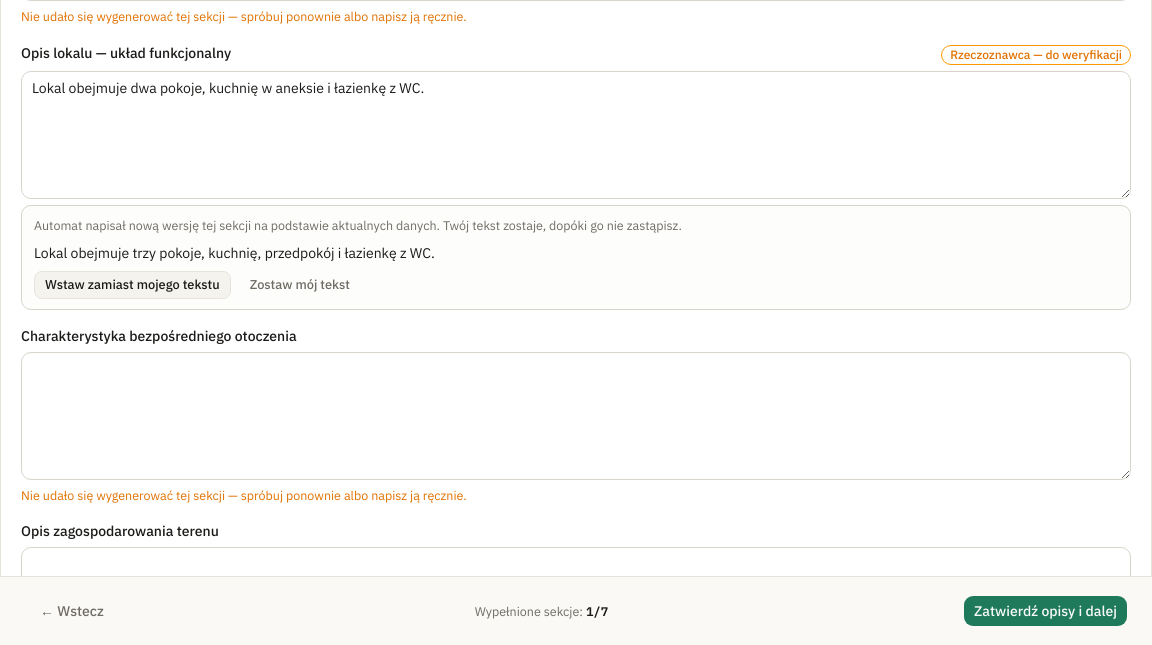
a proposal the merge refused to overwrite is offered, not binned › 'Zostaw mój tekst' retires the offer and changes nothing else
The image size is (1152, 645).
(page scrolled)
Click the button "Zostaw mój tekst". click: (300, 285)
box: [239,271,361,299]
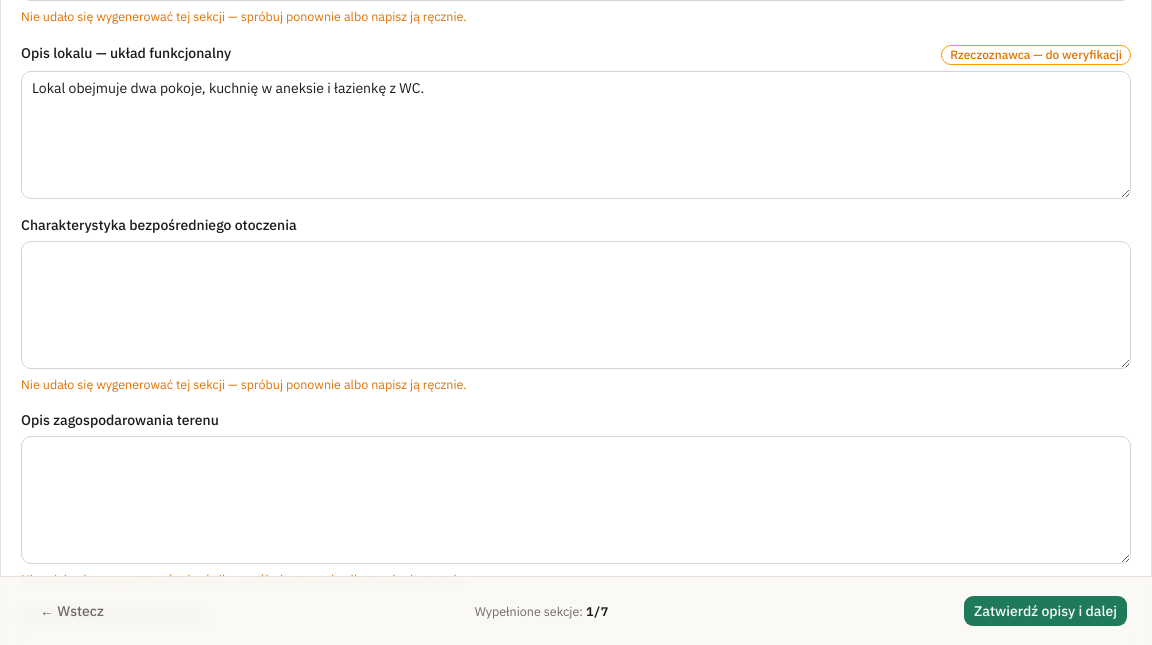
Expected: the text box labelled "Opis lokalu — układ funkcjonalny" holds "Lokal obejmuje dwa pokoje, kuchnię w aneksie i łazienkę z WC.", [21,71,1131,199]
Now the element with test id "prose-offer-opis_lokalu" is gone
